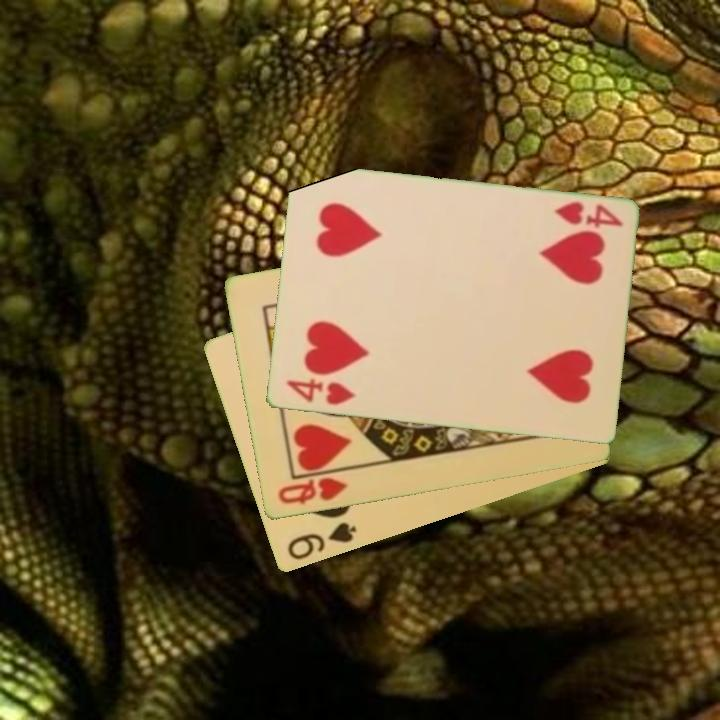4h: (282, 375, 358, 409), (550, 198, 625, 231)
9s: (283, 519, 359, 564)
Qh: (274, 474, 350, 508)
